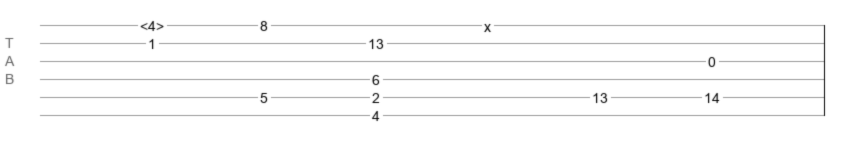0: (708, 54, 716, 64)
1: (148, 36, 156, 46)
13: (368, 36, 384, 46), (592, 90, 608, 100)
14: (704, 90, 720, 100)
2: (372, 90, 380, 100)
4: (372, 108, 380, 118)
5: (260, 90, 268, 100)
6: (372, 72, 380, 82)
8: (260, 18, 268, 28)
harmonic: (140, 18, 164, 28)
x: (484, 19, 491, 27)
